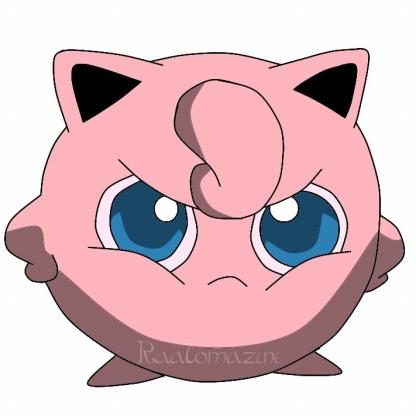Jigglypuff: (9, 35, 416, 397)
